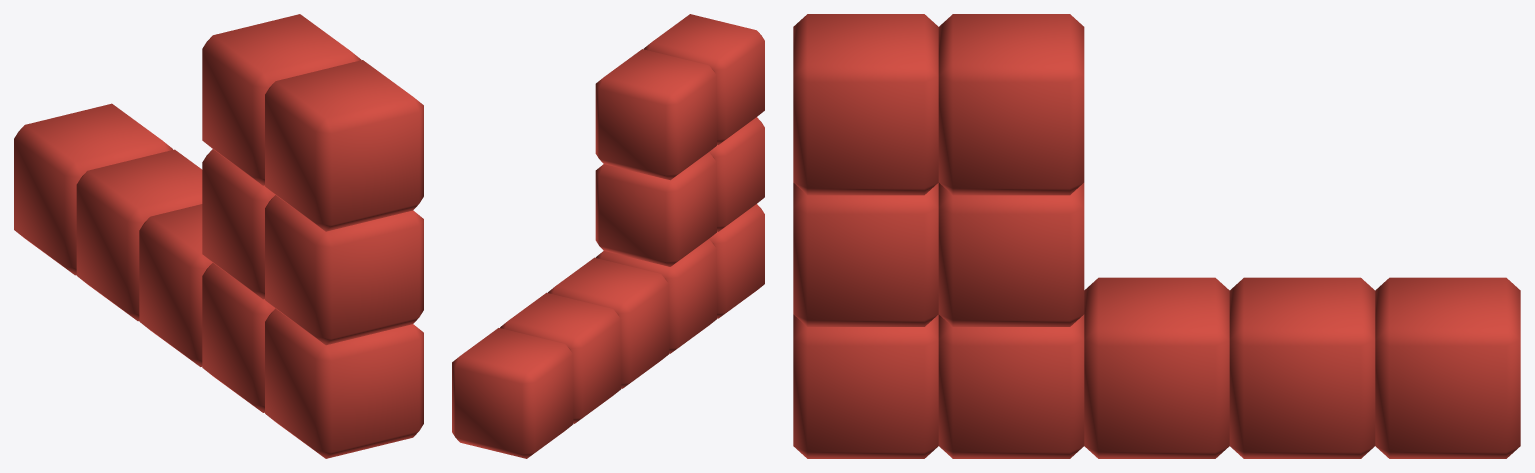
Rendered from obstacle-012.fbx.
3 renders of one model, left to right at view 1: azimuth 30°, elevation 25°; view 2: azimuth 150°, elevation 25°; view 3: azimuth 270°, elevation 25°, orthographic. The views are drawn at different scales.
Parts seen in each view (by area): view 1: obstacle-012; view 2: obstacle-012; view 3: obstacle-012.
Part boxes in pixels (x1,y1,x2,y2): obstacle-012: (14,14,423,458); obstacle-012: (452,14,764,458); obstacle-012: (793,14,1520,458).
Bounding box in the file's own units: 200 × 600 × 1000.
